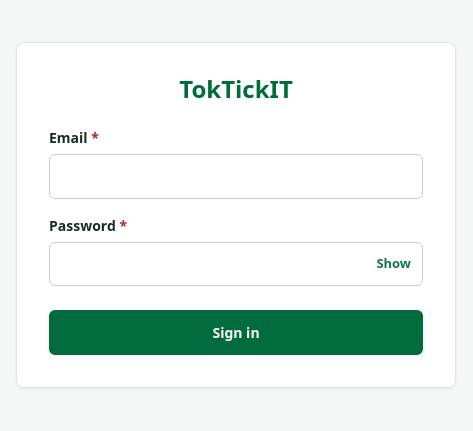
Test: Login page › UI-02: shows validation errors under fields when submitted with empty values
Step 1. Click the button "Sign in" → (236, 333), box [49,310,423,355]
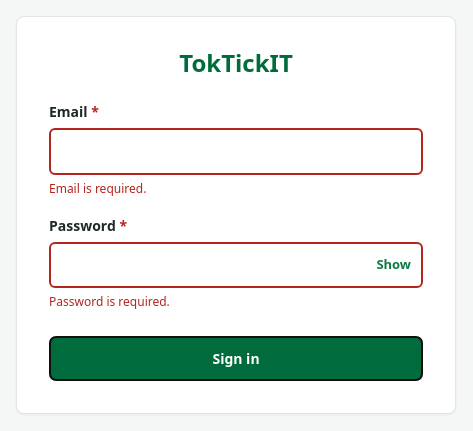
Result: the text "Email is required." is shown at [49,180,146,197]
Result: the text "Password is required." is shown at [49,293,170,310]
